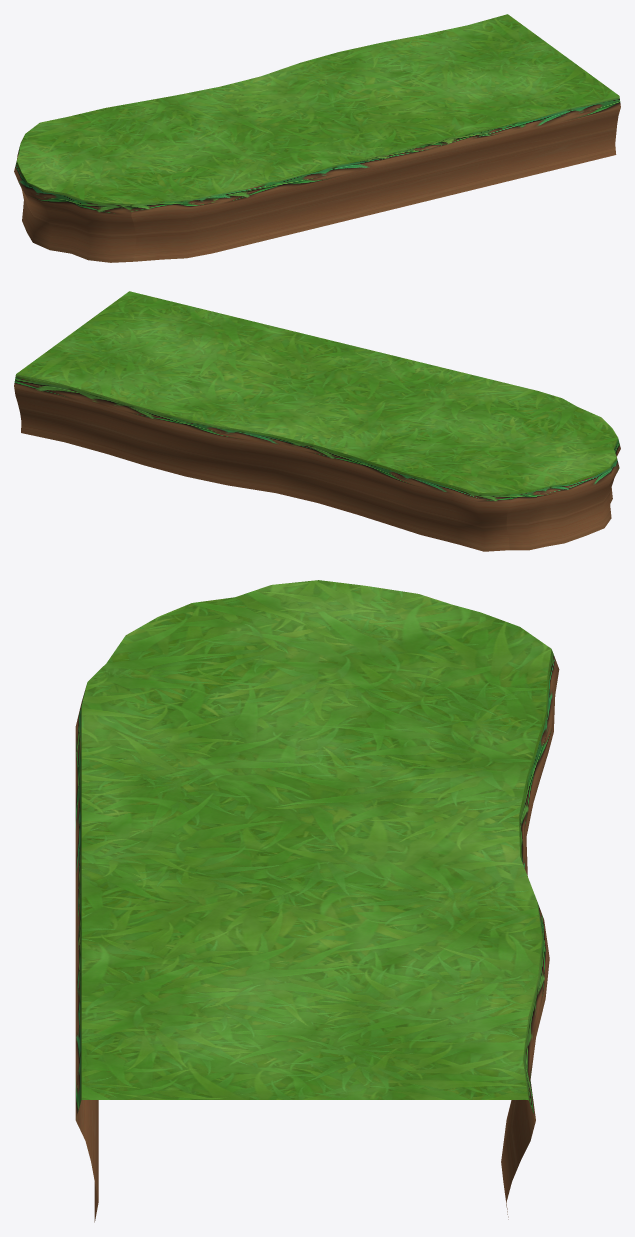
File: lvl1_plat006.FBX
3 views of the same model, one above another, from view 1: azimuth 30°, elevation 25°; view 2: azimuth 150°, elevation 25°; view 3: azimuth 270°, elevation 25° (orthographic). The views are drawn at different scales.
Visible parts, largest first — view 1: lvl1_plat006_grass, lvl1_plat006; view 2: lvl1_plat006_grass, lvl1_plat006; view 3: lvl1_plat006_grass, lvl1_plat006.
Part boxes in pixels (left/top/right/bottom): lvl1_plat006_grass: left=17, top=14, right=618, bottom=203; lvl1_plat006: left=14, top=96, right=620, bottom=262; lvl1_plat006_grass: left=16, top=291, right=617, bottom=492; lvl1_plat006: left=14, top=374, right=620, bottom=551; lvl1_plat006_grass: left=81, top=580, right=551, bottom=1099; lvl1_plat006: left=75, top=649, right=559, bottom=1222.
Size of the model in its own units: 1618 by 178 by 633.
